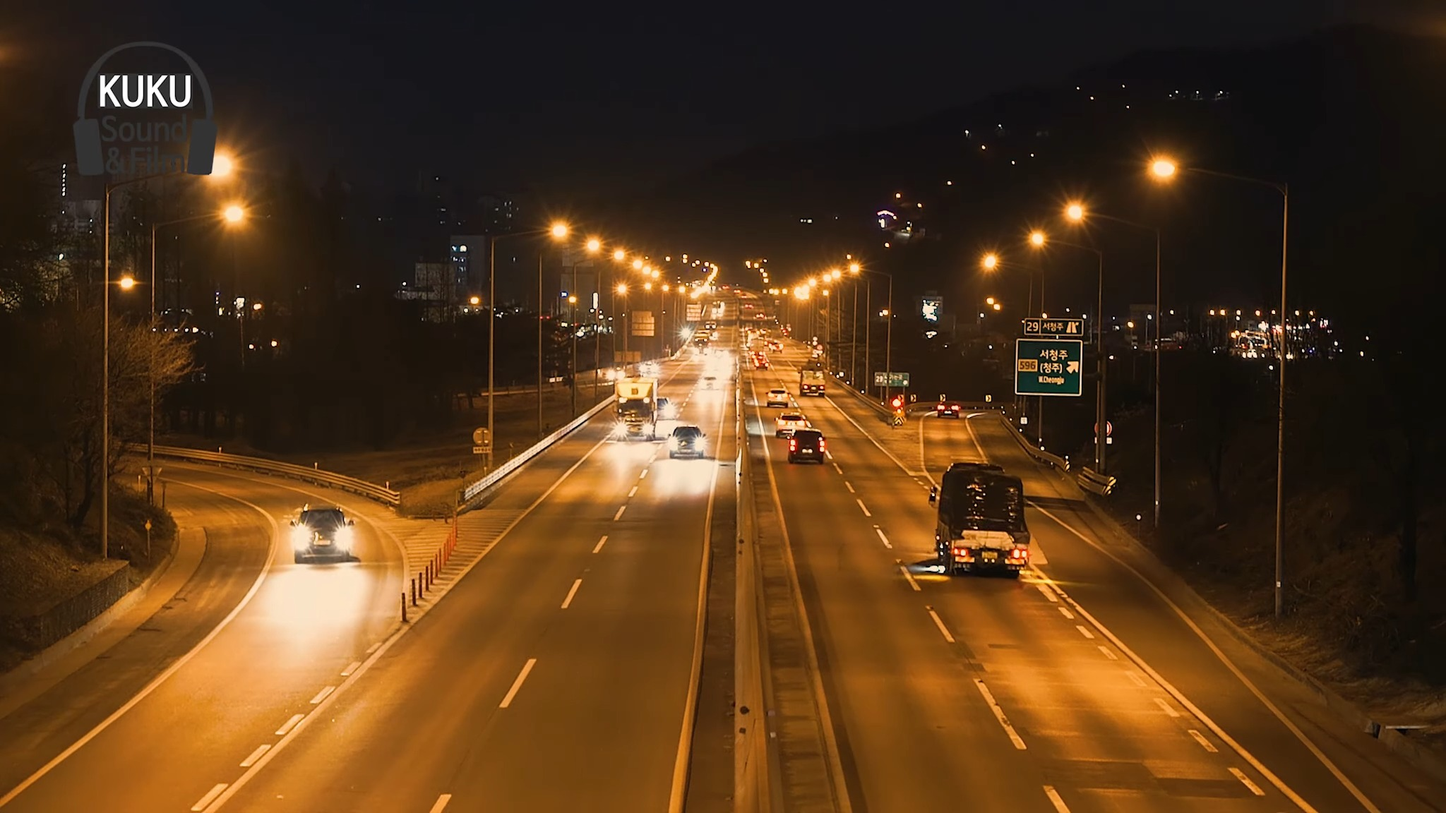car: (286, 503, 358, 562)
truck: (936, 456, 1034, 580)
